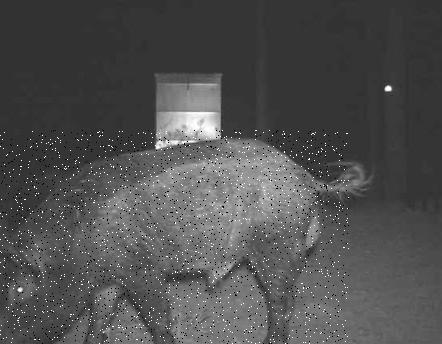Hog: (0, 130, 349, 344)
